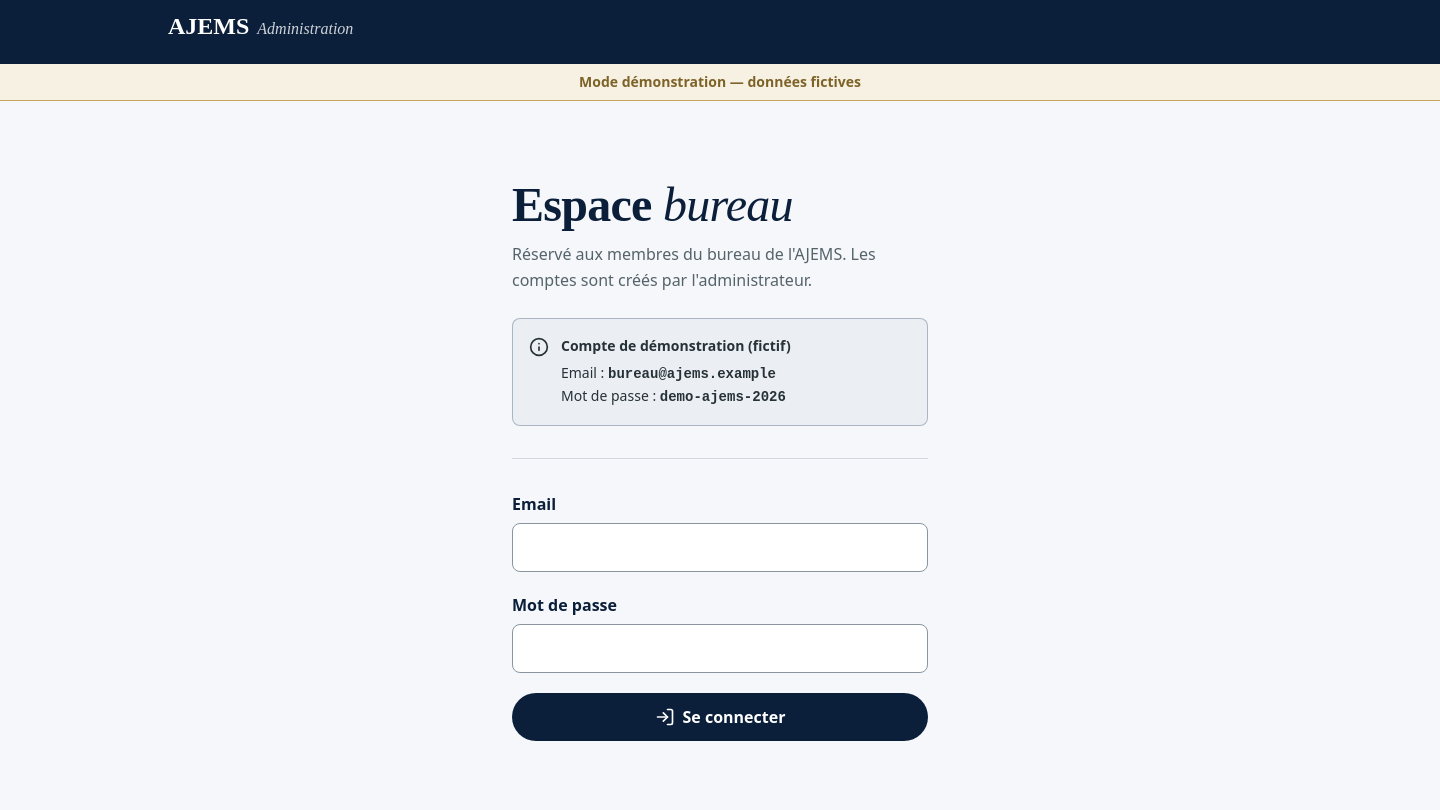
Test: admin › changes the status of a member
Type "bureau@ajems.example" into the field labelled "Email" at (720, 548), box [512,523,928,572]
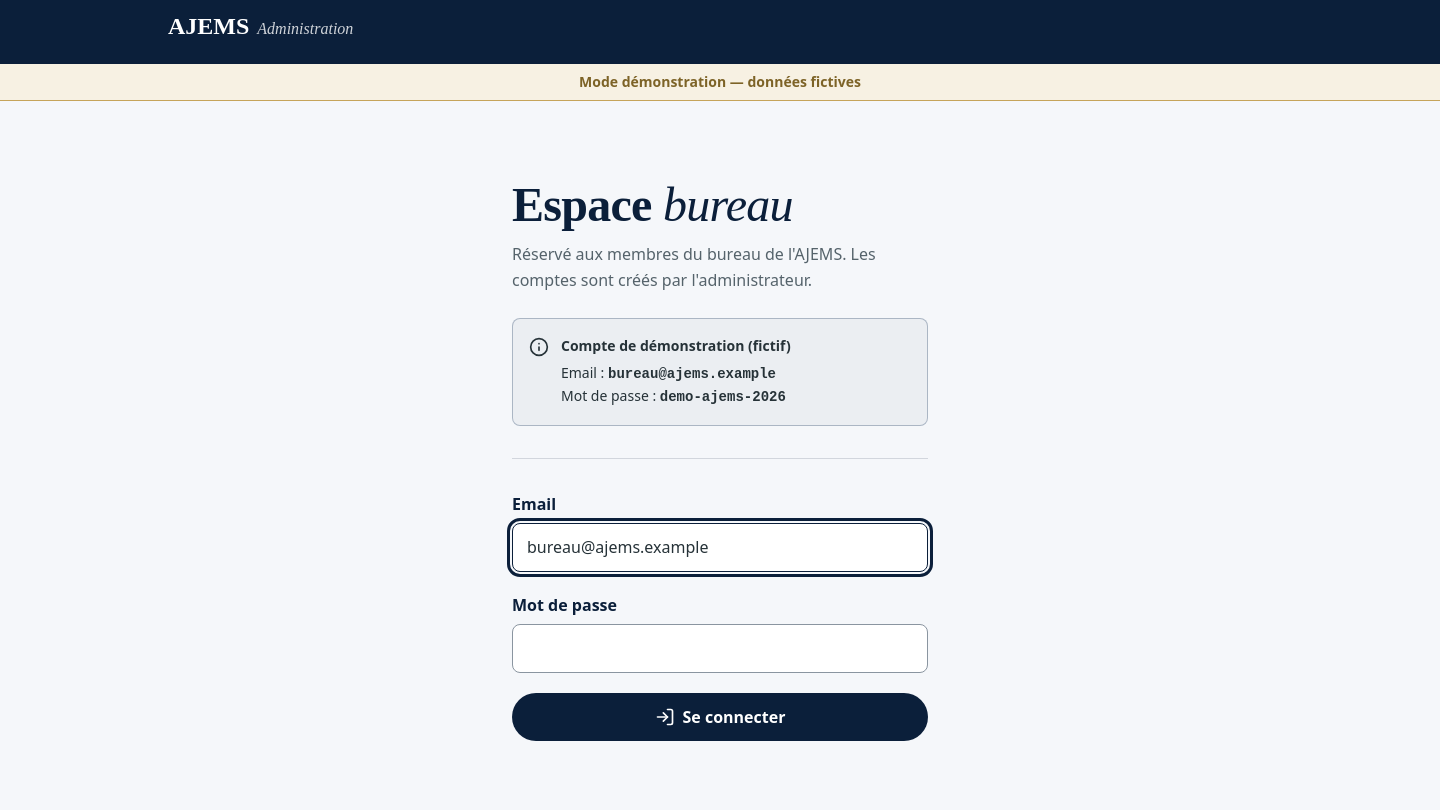
Type "demo-ajems-2026" into the password field labelled "Mot de passe" at (720, 648), box [512,624,928,673]
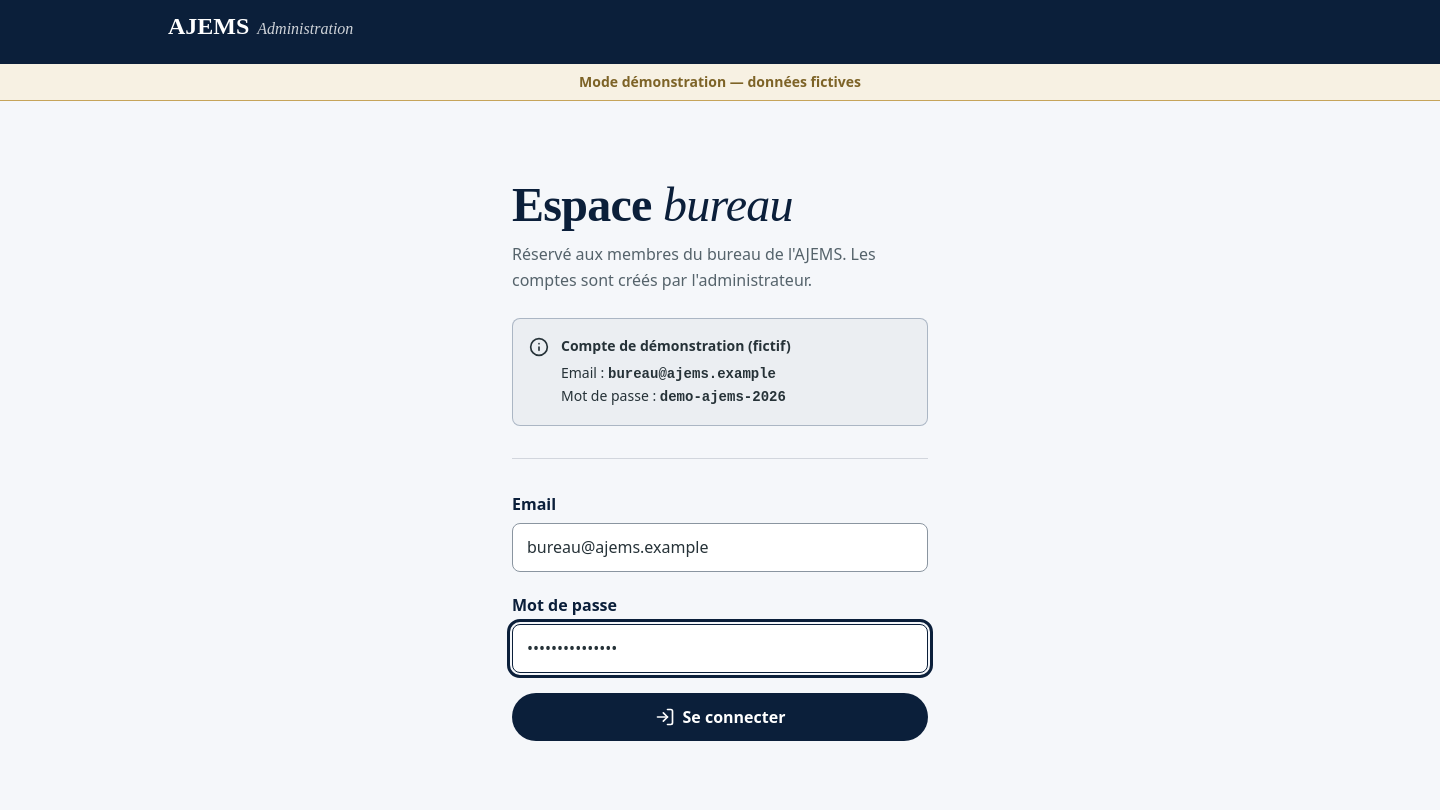
Click the button "Se connecter" at (720, 717), box [512,693,928,741]
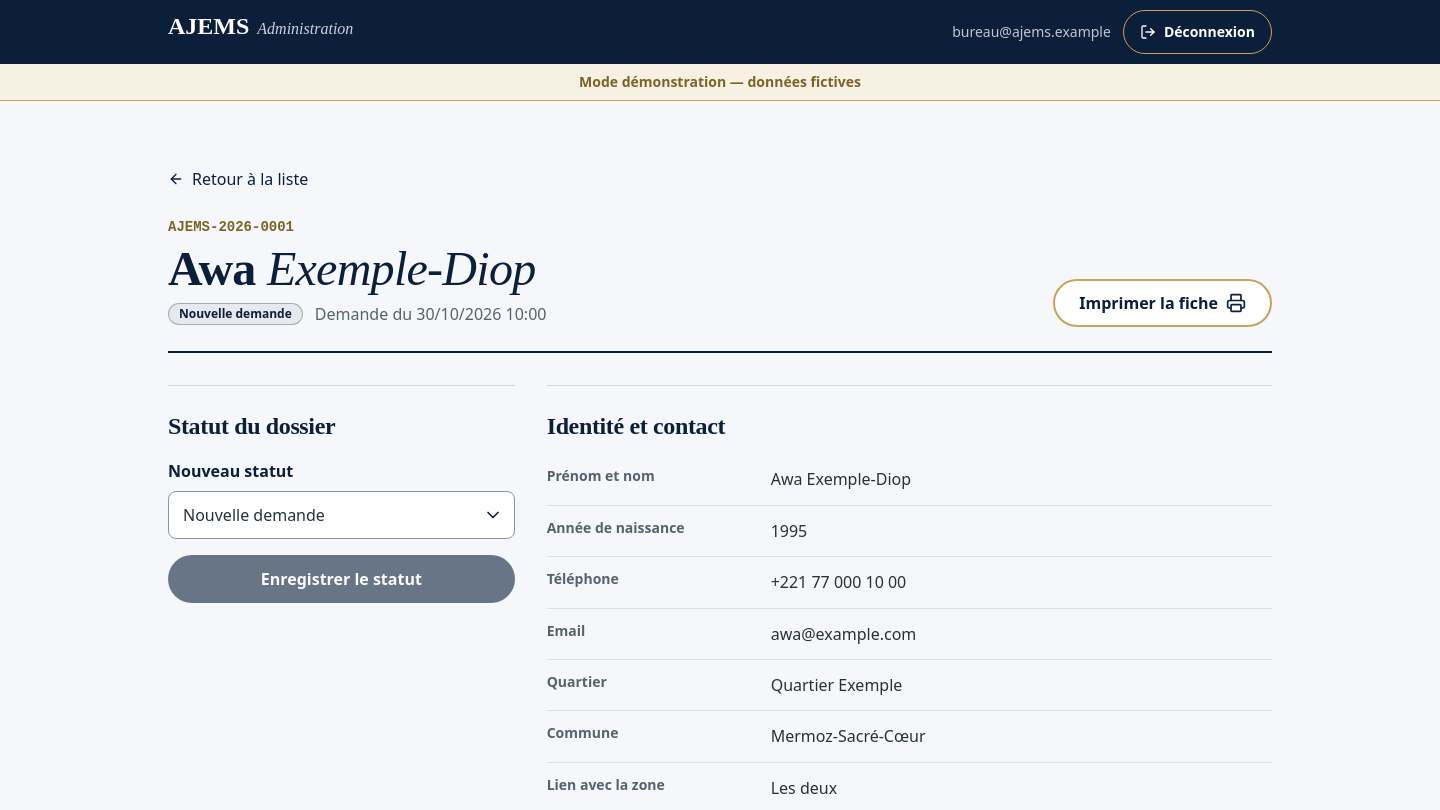
Now the heading "Awa Exemple-Diop" is shown, box [168,245,546,293]
Select "Acceptée" in the dropdown labelled "Nouveau statut" at (341, 515), box [168,491,515,539]
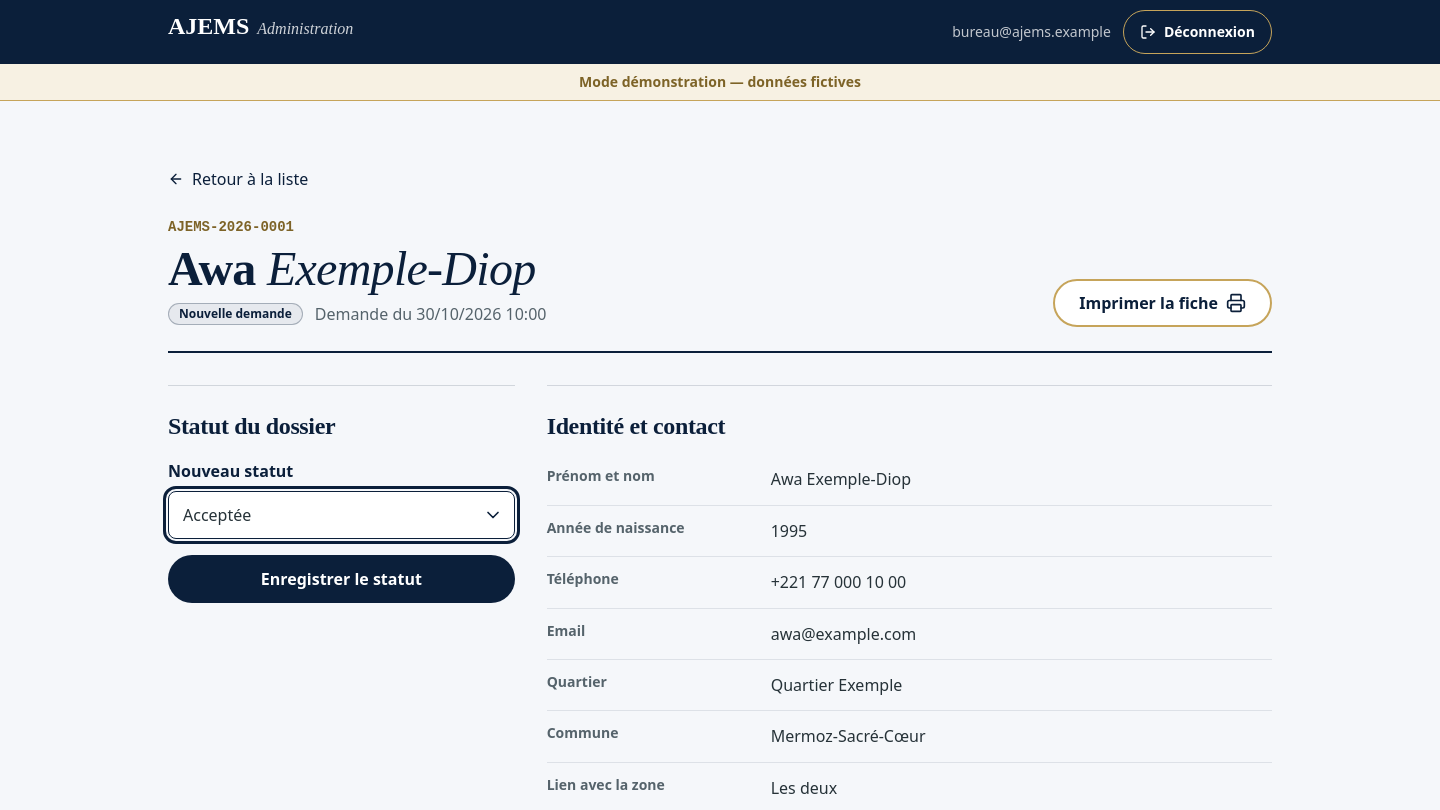
Click the button "Enregistrer le statut" at (341, 579), box [168,555,515,603]
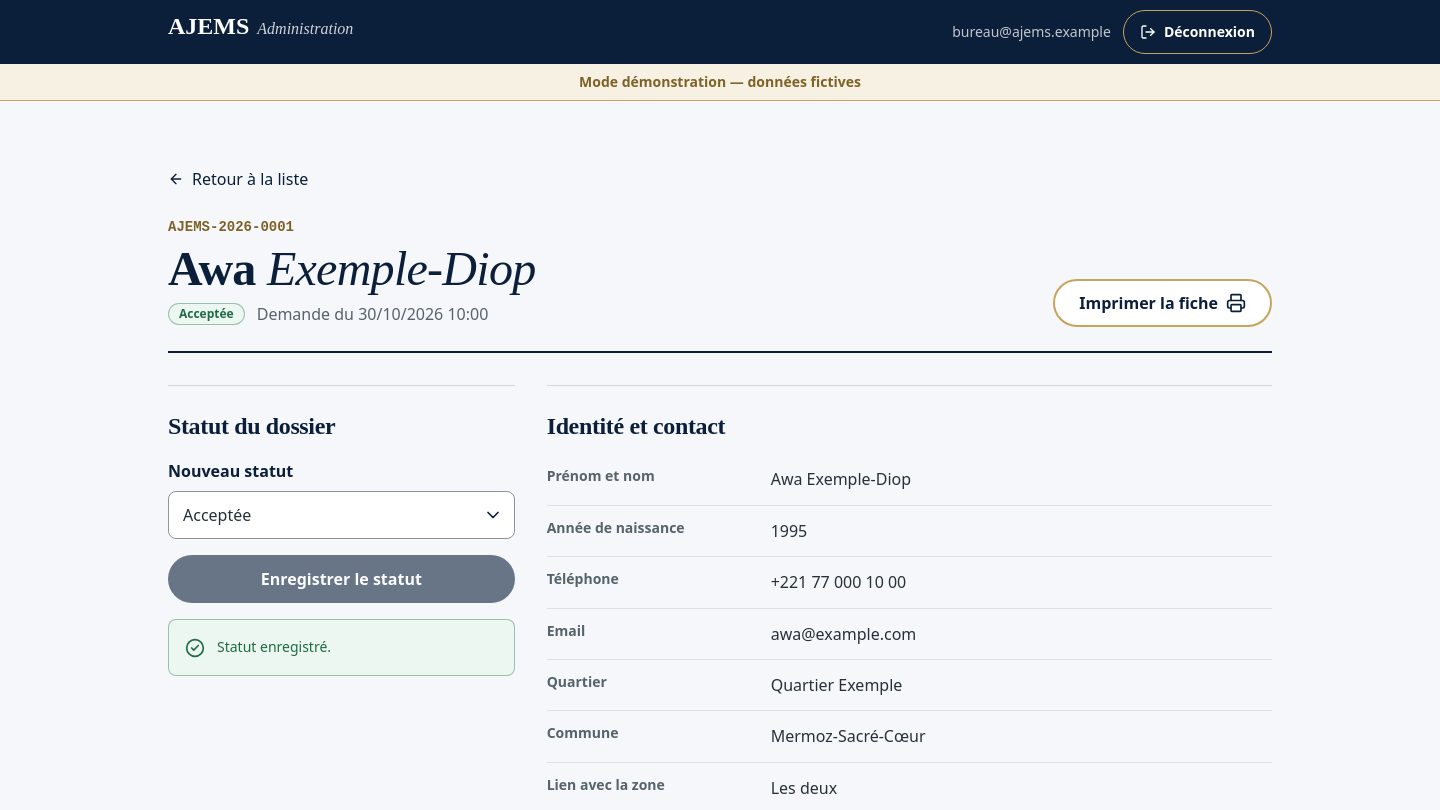
Now the text "Statut enregistré." is shown, box [217,636,331,659]
